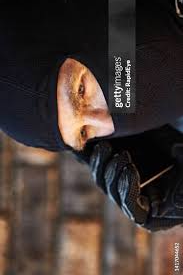terrorist: (7, 8, 183, 235)
